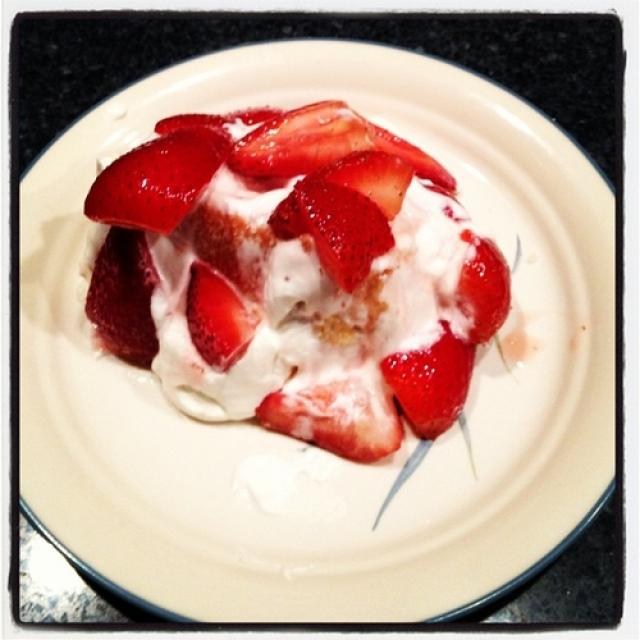蛋糕甜品: (19, 16, 608, 604)
